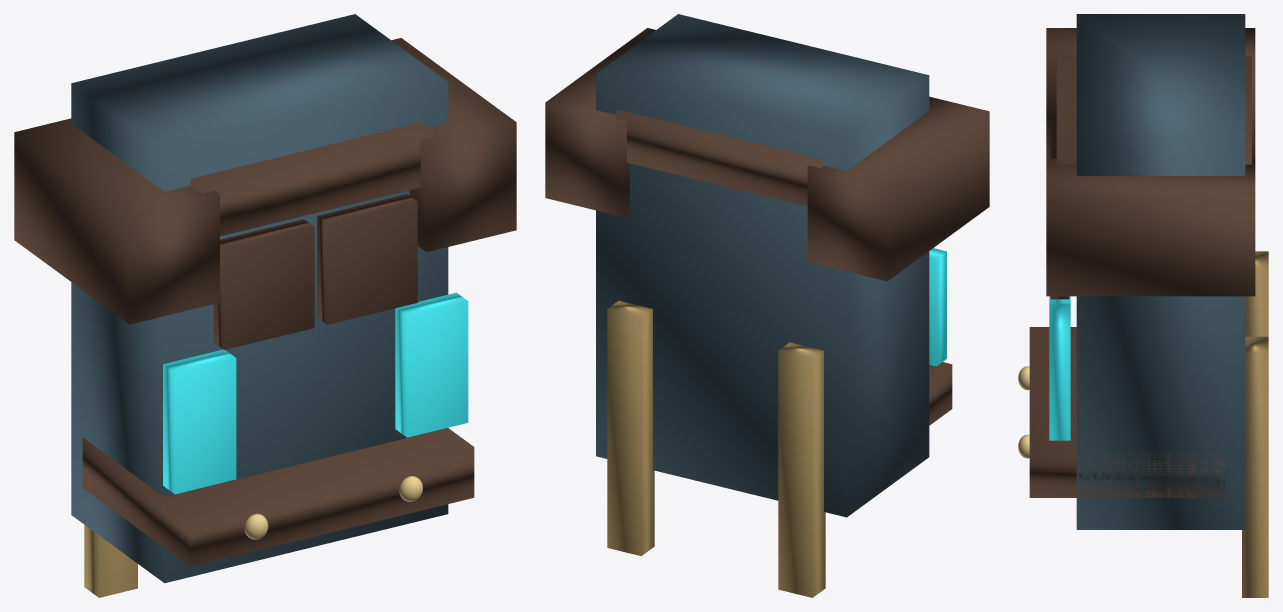
Rendered from Ender_EngineersVest_REVIEW.glb.
3 renders of one model, left to right at view 1: azimuth 30°, elevation 25°; view 2: azimuth 150°, elevation 25°; view 3: azimuth 270°, elevation 25°, orthographic. The views are drawn at different scales.
Parts seen in each view (by area): view 1: EngineersVest; view 2: EngineersVest; view 3: EngineersVest.
Boxes of the visible parts, x1,y1,x2,y2 form: EngineersVest: [14, 14, 516, 597]; EngineersVest: [545, 14, 989, 597]; EngineersVest: [1018, 14, 1268, 597].
Size of the model in its own units: 0.6 by 0.77 by 0.372.
